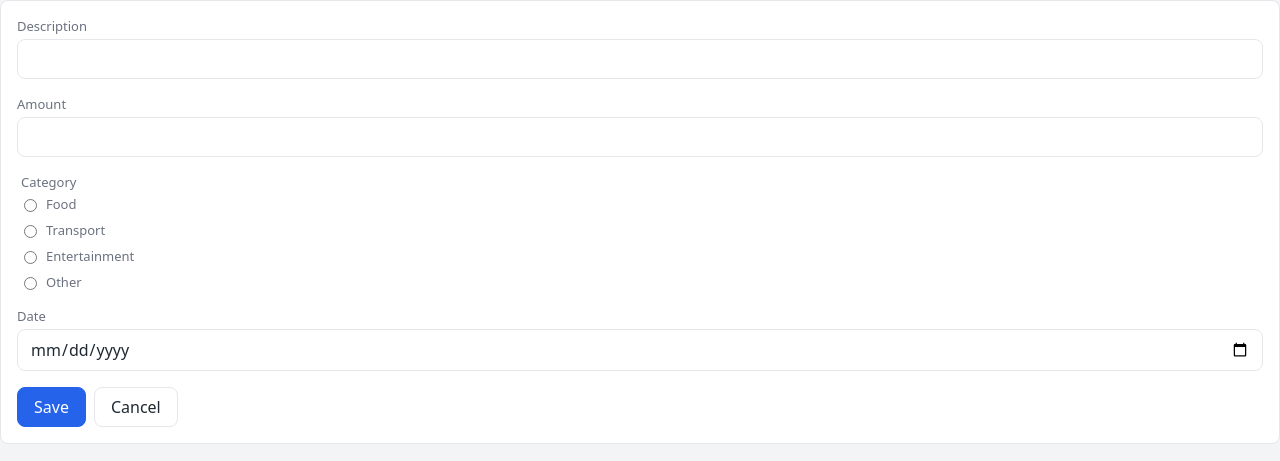
Test case: ExpenseForm markup › strips non-numerical characters from the amount field on input
Type "12abc,34x" into the field with id "expense-amount" at (640, 137), box [17,117,1263,157]
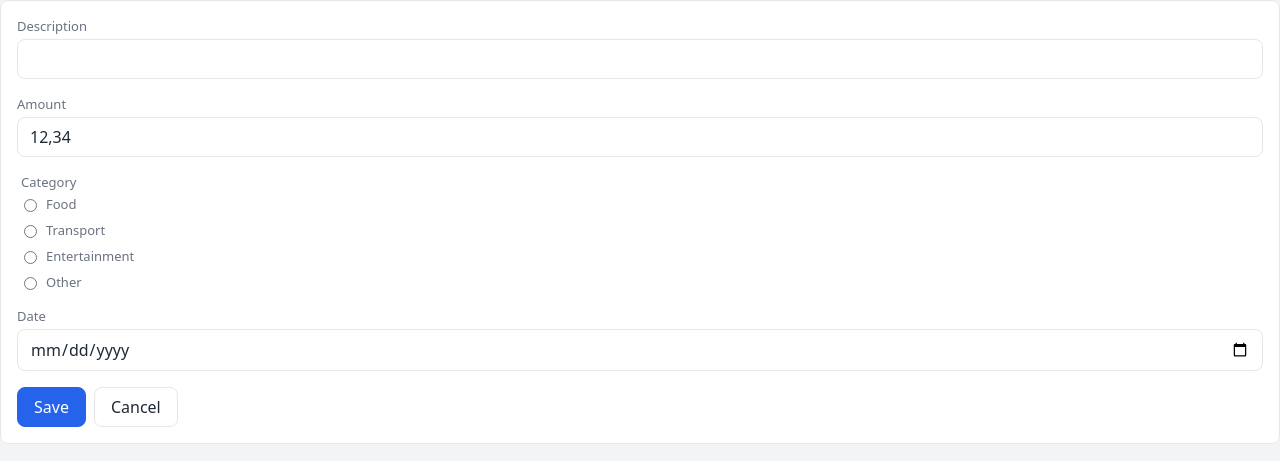
Check: the field with id "expense-amount" holds "12,34", box [17,117,1263,157]
